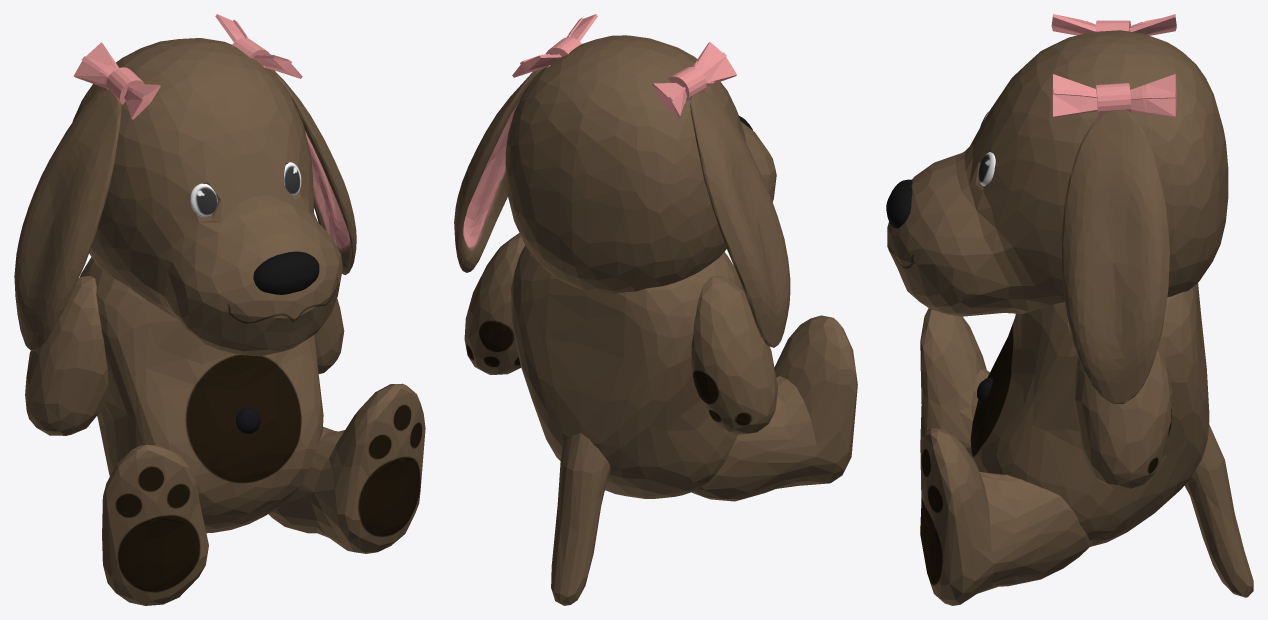
The model's file is Bubu_MESH.fbx.
The picture shows the model from 3 angles, left to right: view 1: azimuth 30°, elevation 25°; view 2: azimuth 150°, elevation 25°; view 3: azimuth 270°, elevation 25°; orthographic projection. The views are drawn at different scales.
Parts seen in each view (by area): view 1: Bubu_Body_MESH, Bubu_Orelha_MESH, Bubu_Lacinho_MESH, Bubu_Nariz_MESH, Bubu_Plastic_MESH; view 2: Bubu_Body_MESH, Bubu_Orelha_MESH, Bubu_Lacinho_MESH; view 3: Bubu_Body_MESH, Bubu_Orelha_MESH, Bubu_Lacinho_MESH, Bubu_Nariz_MESH, Bubu_Plastic_MESH.
Part boxes in pixels (bbox=[...]): Bubu_Body_MESH: bbox=[25, 38, 425, 605]; Bubu_Orelha_MESH: bbox=[14, 69, 356, 350]; Bubu_Lacinho_MESH: bbox=[73, 14, 302, 119]; Bubu_Nariz_MESH: bbox=[253, 251, 319, 294]; Bubu_Plastic_MESH: bbox=[190, 162, 301, 433]; Bubu_Body_MESH: bbox=[464, 35, 857, 605]; Bubu_Orelha_MESH: bbox=[454, 68, 790, 347]; Bubu_Lacinho_MESH: bbox=[512, 14, 736, 117]; Bubu_Body_MESH: bbox=[887, 30, 1253, 605]; Bubu_Orelha_MESH: bbox=[1061, 109, 1169, 403]; Bubu_Lacinho_MESH: bbox=[1051, 14, 1176, 117]; Bubu_Nariz_MESH: bbox=[886, 179, 912, 228]; Bubu_Plastic_MESH: bbox=[977, 110, 995, 403].
Bounding box in the file's own units: 1.82 × 2.83 × 1.7.
